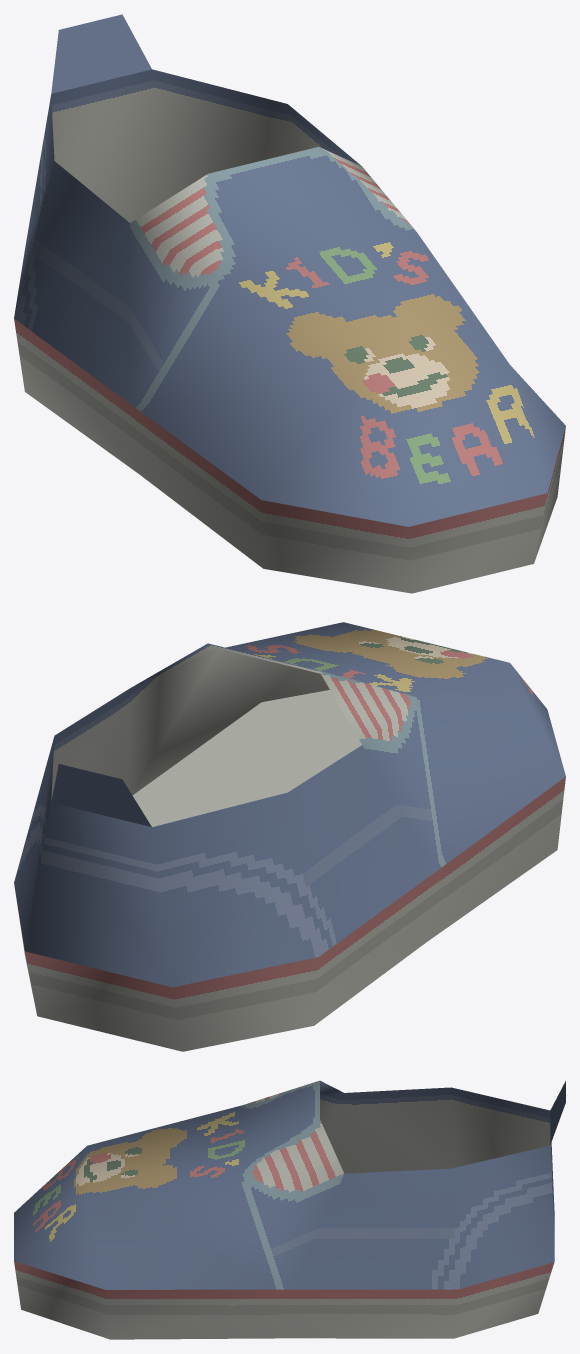
File: 019e_Kid_s_Shoe.glb
3 views of the same model, one above another, from view 1: azimuth 30°, elevation 25°; view 2: azimuth 150°, elevation 25°; view 3: azimuth 270°, elevation 25° (orthographic). The views are drawn at different scales.
Parts seen in each view (by area): view 1: part_0; view 2: part_0; view 3: part_0.
Part boxes in pixels (bbox=[...]): part_0: bbox=[14, 14, 565, 593]; part_0: bbox=[14, 622, 565, 1051]; part_0: bbox=[14, 1080, 565, 1339].
Size of the model in its own units: 0.0802 by 0.0693 by 0.176.
Materials: 1 (1 with a texture image).
